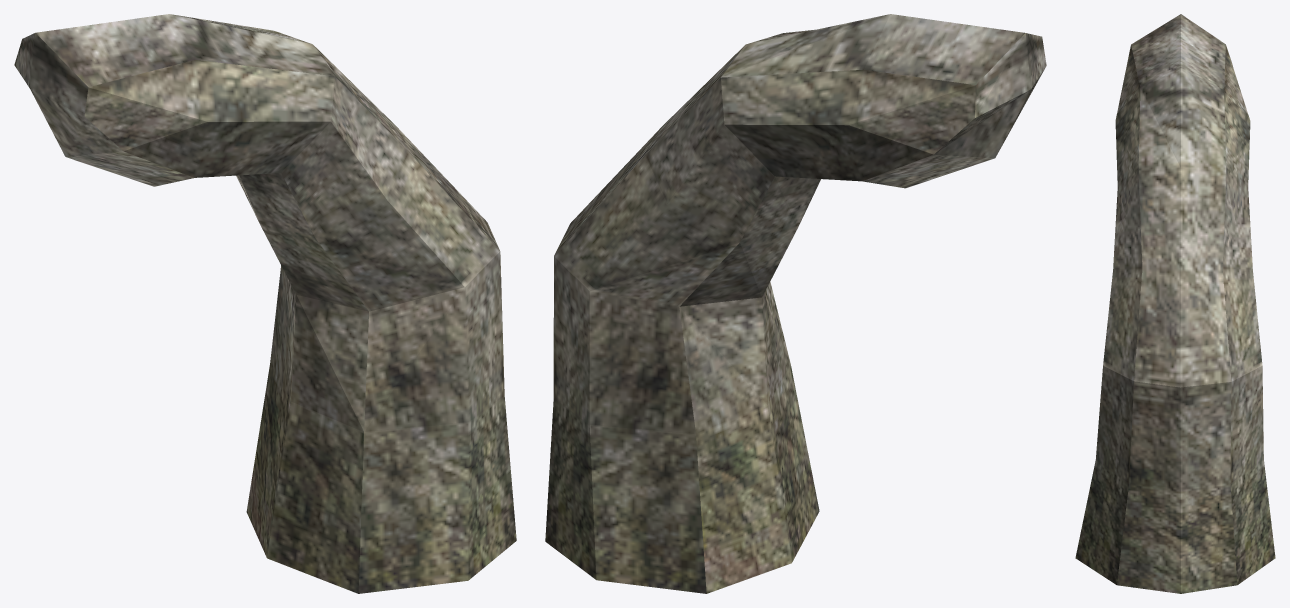
3 views of the same model, side by side, from view 1: azimuth 30°, elevation 25°; view 2: azimuth 150°, elevation 25°; view 3: azimuth 270°, elevation 25° (orthographic). The views are drawn at different scales.
Visible parts, largest first — view 1: Shape02; view 2: Shape02; view 3: Shape02.
Boxes of the visible parts, x1,y1,x2,y2 form: Shape02: (14,14,516,593); Shape02: (545,14,1046,593); Shape02: (1075,14,1275,593).
Bounding box in the file's own units: 7.46 × 8.89 × 3.85.
1 material, 1 textured.
